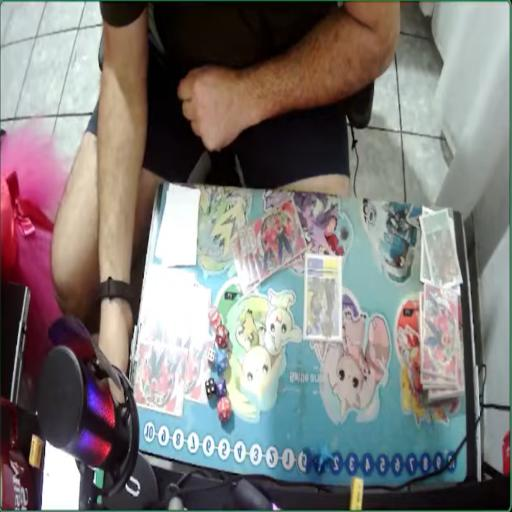card: (418, 210, 466, 286), (303, 254, 343, 341), (165, 189, 199, 266)
